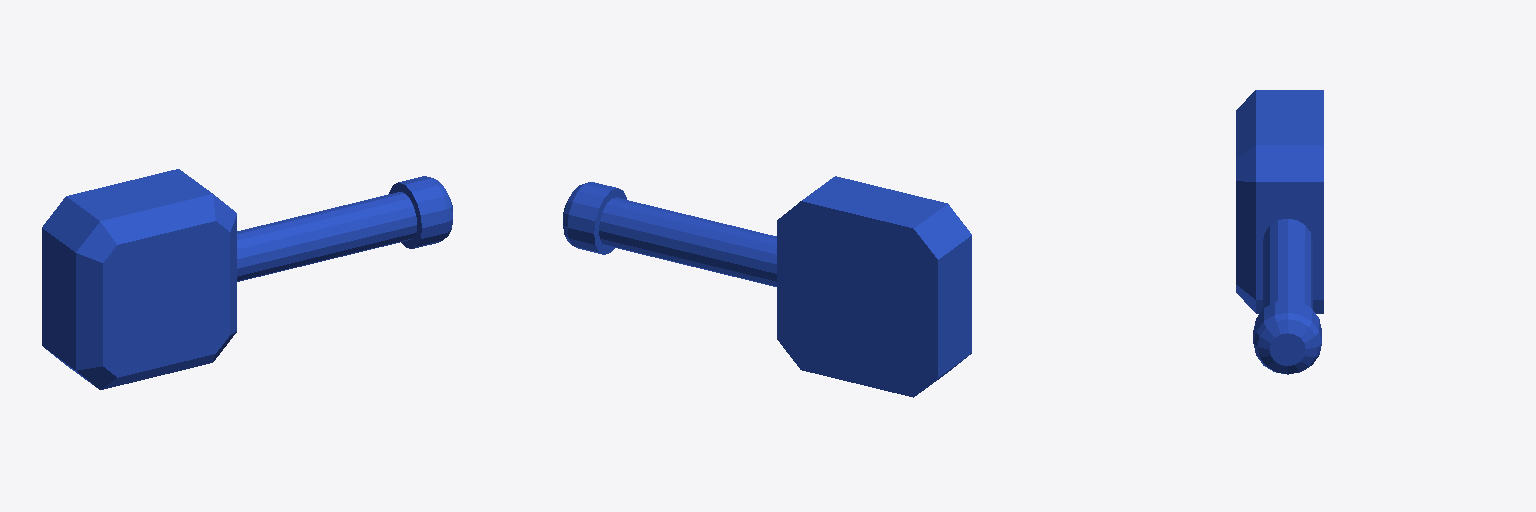
File: tank_blue_turret.obj
The picture shows the model from 3 angles: view 1: azimuth 30°, elevation 25°; view 2: azimuth 150°, elevation 25°; view 3: azimuth 270°, elevation 25°; orthographic projection.
Parts seen in each view (by area): view 1: tank_head_exit.005; view 2: tank_head_exit.005; view 3: tank_head_exit.005.
Boxes of the visible parts, box(x1,y1,x2,y2) form: tank_head_exit.005: box(42, 169, 452, 389); tank_head_exit.005: box(563, 176, 971, 397); tank_head_exit.005: box(1236, 90, 1323, 374).
Size of the model in its own units: 47.6 by 20 by 9.49.